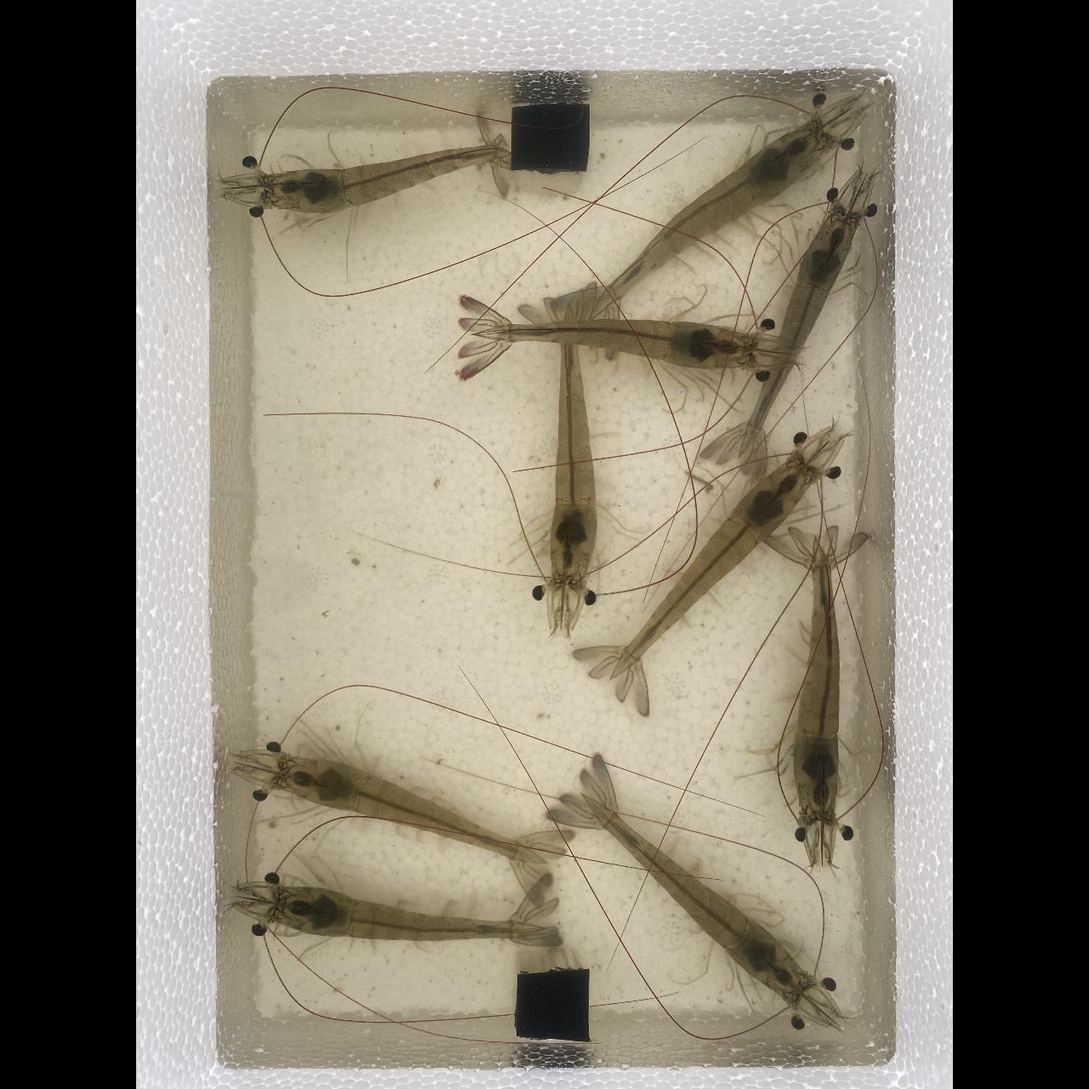box: (510, 100, 590, 172), (516, 968, 589, 1040)
top_shrimp: (585, 796, 805, 997), (590, 126, 825, 311), (613, 459, 810, 672), (740, 211, 854, 456), (277, 759, 546, 858), (269, 143, 505, 211), (272, 887, 548, 943), (795, 539, 839, 818), (476, 322, 755, 366), (553, 300, 596, 582)
